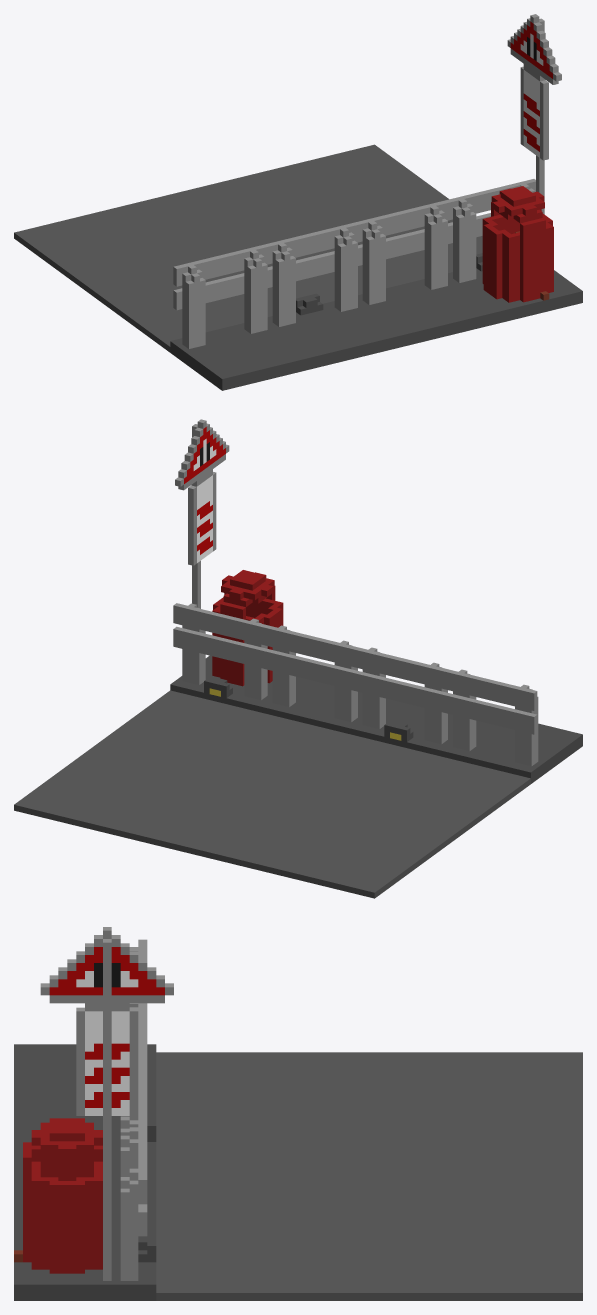
The model's file is MapWIP_v02-58.obj.
The picture shows the model from 3 angles, top to bottom: view 1: azimuth 30°, elevation 25°; view 2: azimuth 150°, elevation 25°; view 3: azimuth 270°, elevation 25°; orthographic projection. The views are drawn at different scales.
Bounding box in the file's own units: 6.4 × 4.5 × 6.4.
Materials: 1 (1 with a texture image).
